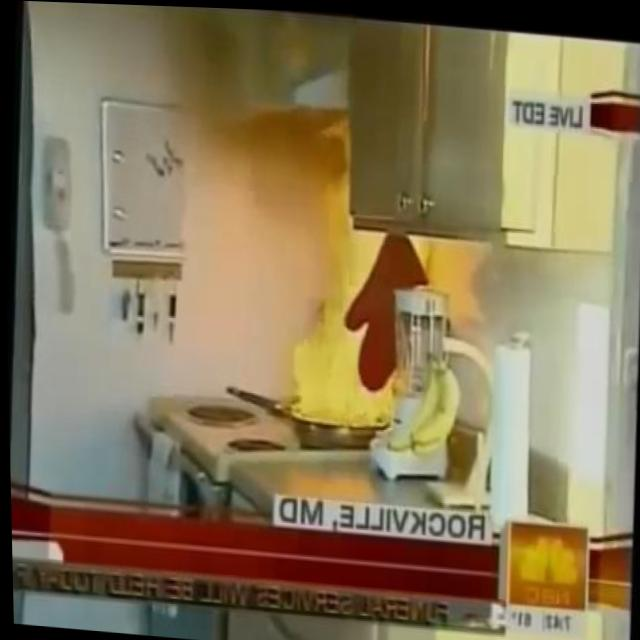fire: (281, 181, 412, 435)
